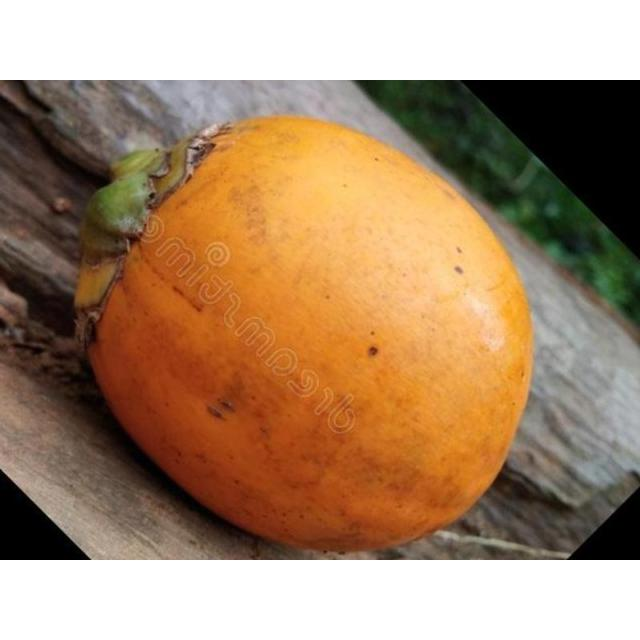good: (68, 115, 537, 556)
